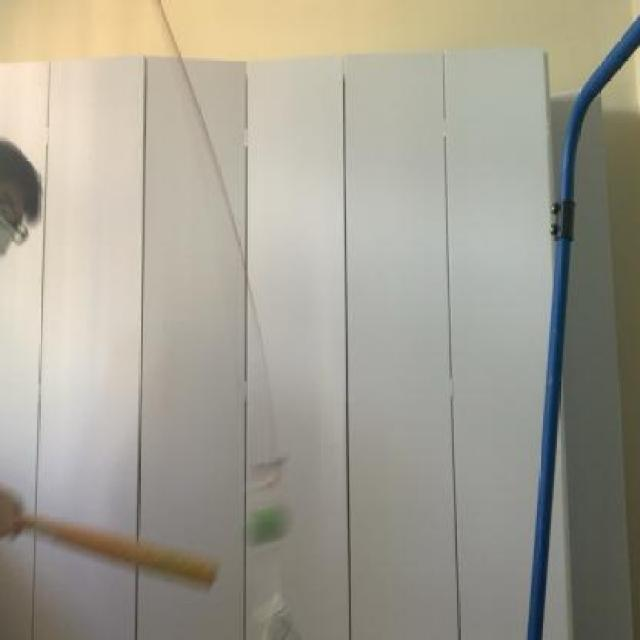baseball: (242, 492, 302, 560)
